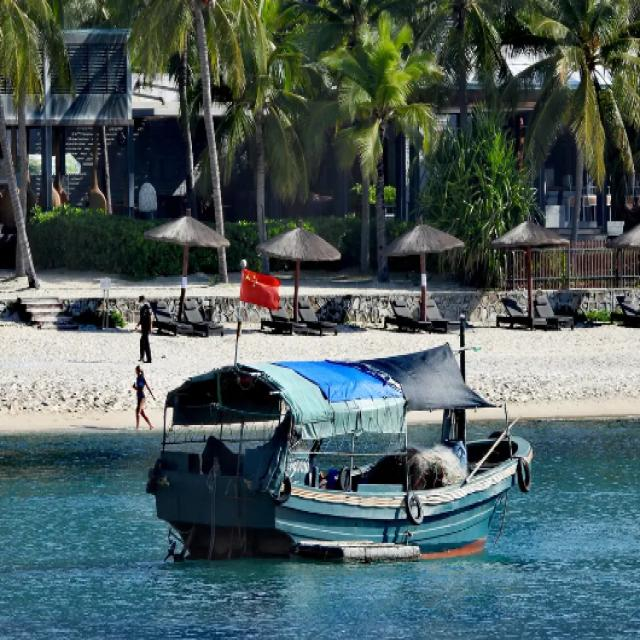fishing boat: (154, 333, 531, 562)
